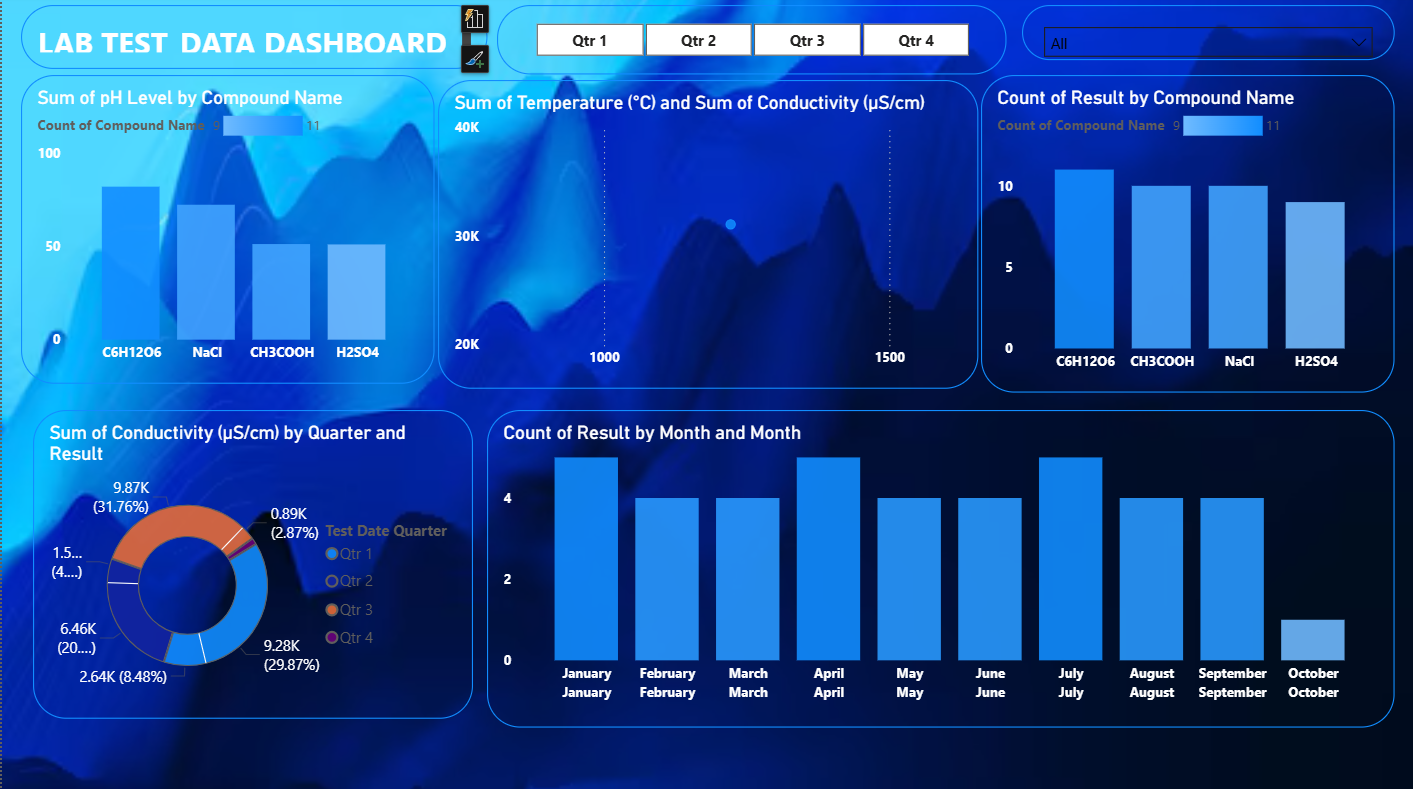

The dashboard page shown, as its layout file describes it:
{"tool":"powerbi","page":{"name":"Page 1","canvas":[1280,720],"ordinal":0},"visuals":[{"type":"columnChart","fields":{"Category":["lab_test_data.Compound Name"],"Y":["CountNonNull(lab_test_data.Result)"]},"box":[888,72,375,288],"z":0},{"type":"scatterChart","fields":{"X":["Sum(lab_test_data.Temperature (°C))"],"Y":["Sum(lab_test_data.Conductivity (µS/cm))"]},"box":[395,76,490,280],"z":1000},{"type":"lineClusteredColumnComboChart","fields":{"Category":["lab_test_data.Test Date.Variation.Date Hierarchy.Month","lab_test_data.Test Date.Variation.Date Hierarchy.Month"],"Y":["CountNonNull(lab_test_data.Result)"]},"box":[440,375,823,288],"z":2000},{"type":"columnChart","fields":{"Category":["lab_test_data.Compound Name"],"Y":["Sum(lab_test_data.pH Level)"]},"box":[17,72,375,280],"z":3000},{"type":"donutChart","fields":{"Category":["lab_test_data.Test Date.Variation.Date Hierarchy.Quarter","lab_test_data.Sample ID"],"Series":["lab_test_data.Result"],"Y":["Sum(lab_test_data.Conductivity (µS/cm))"]},"box":[28,375,399,280],"z":3001},{"type":"textbox","box":[17,0,423,58],"z":3002},{"type":"slicer","fields":{"Values":["lab_test_data.Test Date.Variation.Date Hierarchy.Quarter"]},"box":[449,3,462,69],"z":3003},{"type":"slicer","fields":{"Values":["lab_test_data.Compound Name"]},"box":[925,0,338,58],"z":3004}]}

Visuals, with their boxes in screenshot pixels (x1, y1, x2, y2), scaled from the page's 1280x720 canvas onto the 1413x789 screenshot:
columnChart - lab_test_data.Compound Name x CountNonNull(lab_test_data.Result): region(980, 79, 1394, 395)
scatterChart - Sum(lab_test_data.Temperature (°C)) x Sum(lab_test_data.Conductivity (µS/cm)): region(436, 83, 977, 390)
lineClusteredColumnComboChart - lab_test_data.Test Date.Variation.Date Hierarchy.Month x lab_test_data.Test Date.Variation.Date Hierarchy.Month: region(486, 411, 1394, 727)
columnChart - lab_test_data.Compound Name x Sum(lab_test_data.pH Level): region(19, 79, 433, 386)
donutChart - lab_test_data.Test Date.Variation.Date Hierarchy.Quarter x lab_test_data.Sample ID: region(31, 411, 471, 718)
textbox: region(19, 0, 486, 64)
slicer - lab_test_data.Test Date.Variation.Date Hierarchy.Quarter: region(496, 3, 1006, 79)
slicer - lab_test_data.Compound Name: region(1021, 0, 1394, 64)
